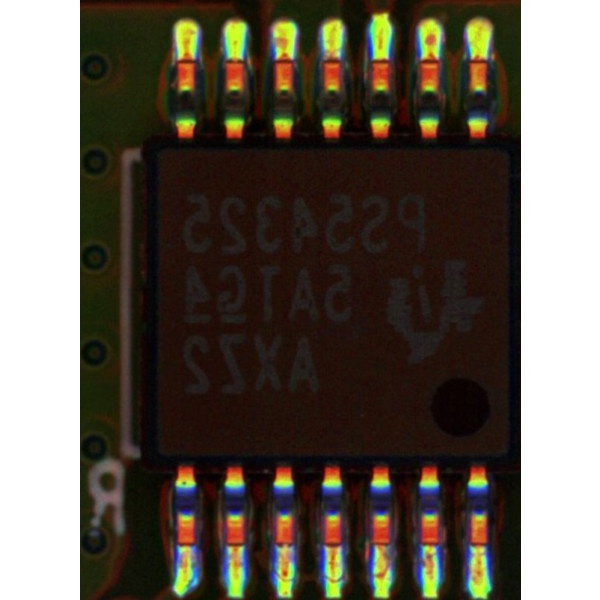Bad_podu: (229, 536, 243, 561), (278, 52, 292, 74), (181, 48, 193, 72), (279, 535, 291, 559), (425, 50, 437, 72), (475, 533, 485, 559), (325, 50, 337, 71), (329, 535, 339, 560), (377, 534, 387, 558)
